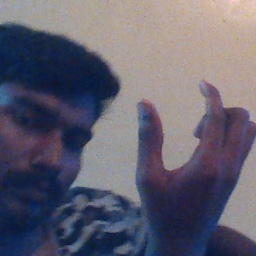U: (127, 76, 256, 219)
